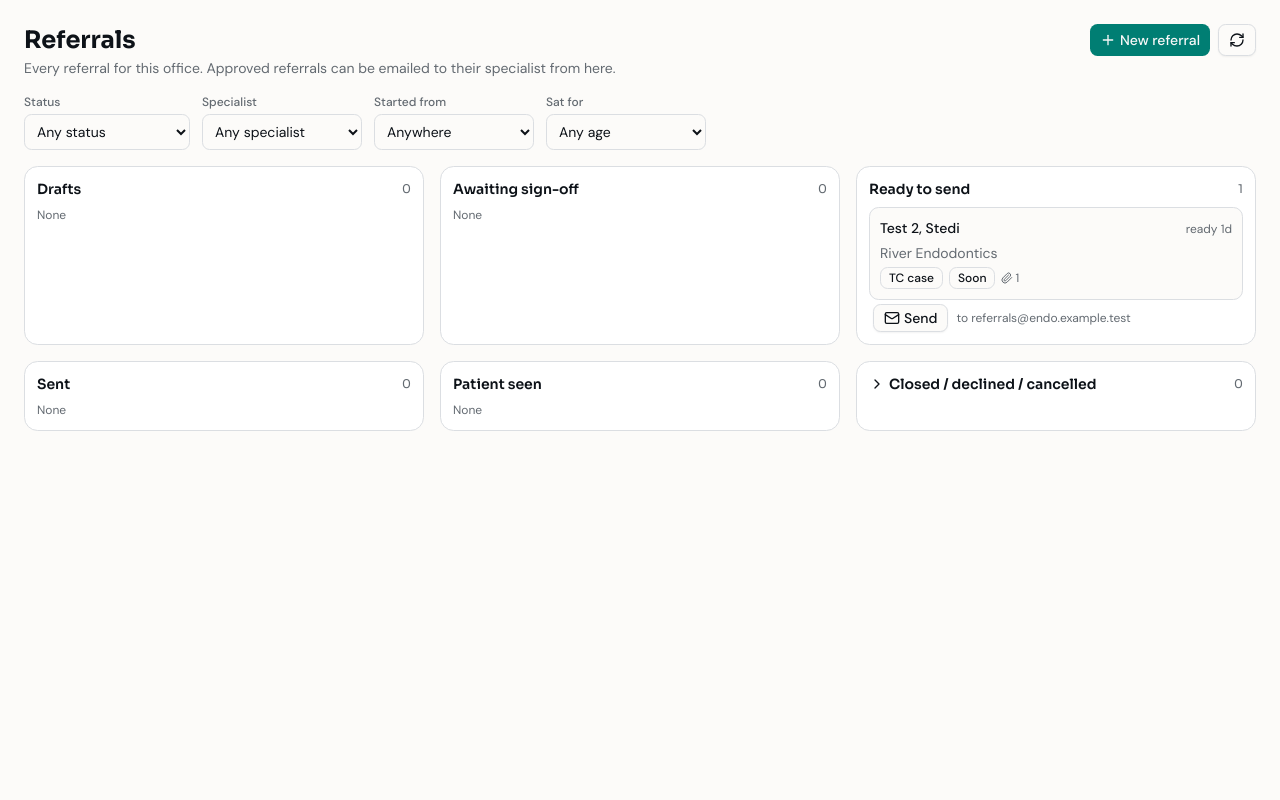
Test: the detail panel › a refusal shows the sentence and the RE-READ referral (with its retry)
The image size is (1280, 800).
Click the button with test id "tc-hub-card": (920, 228) [869,207,1243,300]
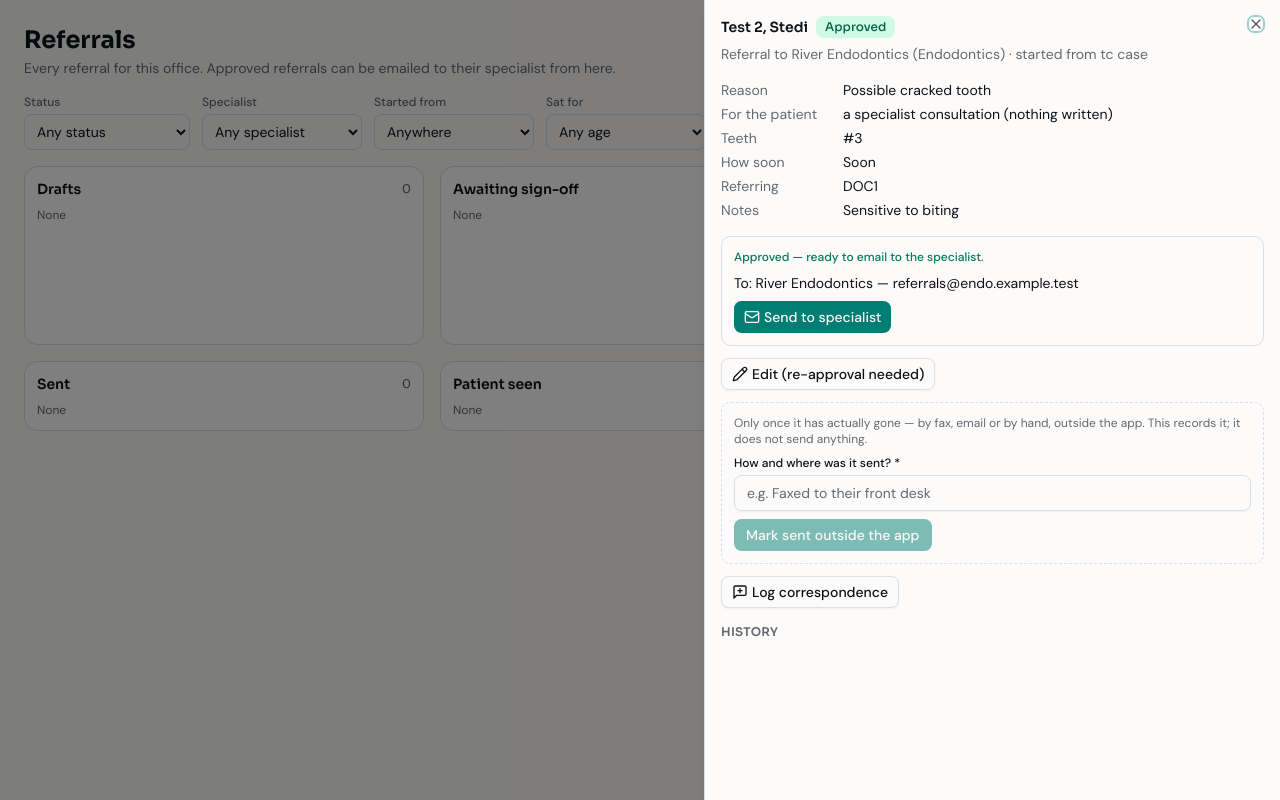
Click the button with test id "tc-hub-send-button": (813, 317) [734,301,892,333]
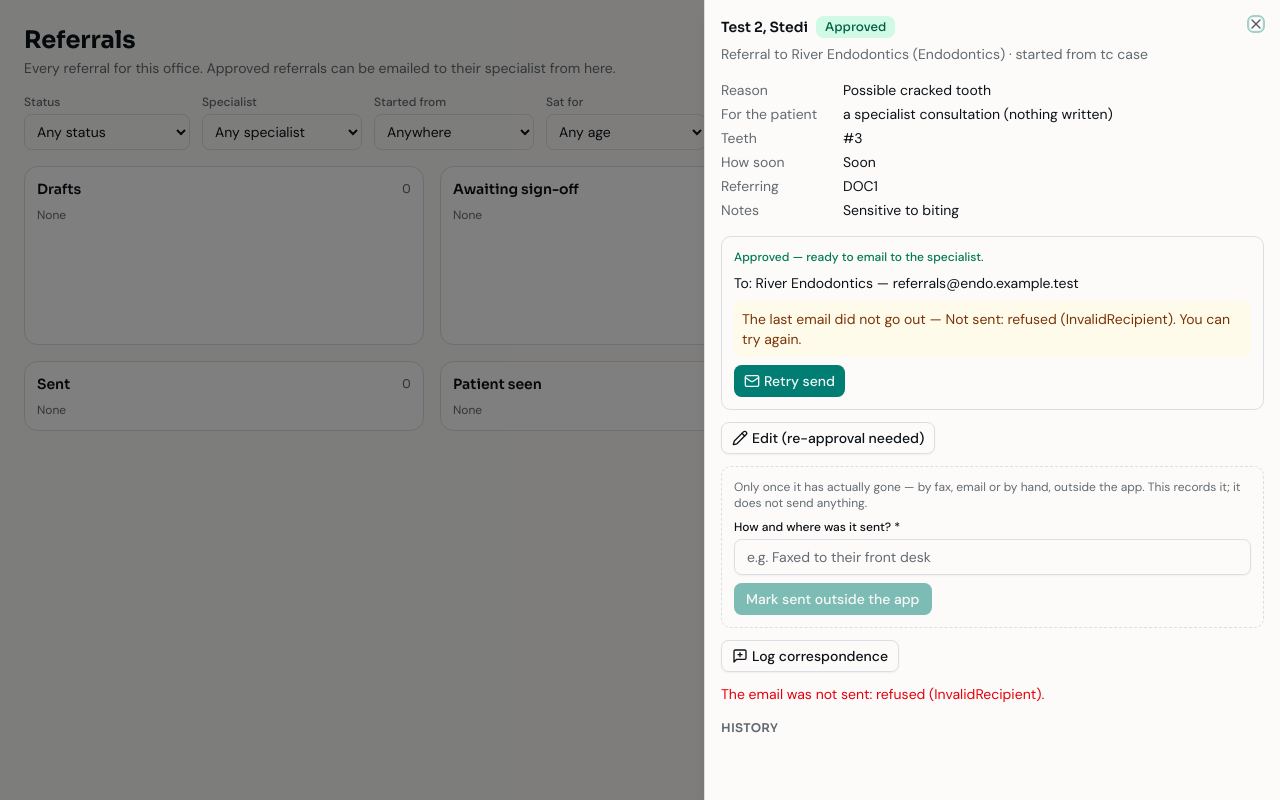
Expected: the text "The email was not sent: refused (InvalidRecipient)." is shown, [721,685,1044,703]
Expected: the text with test id "tc-hub-send-failed" shows "Not sent: refused (InvalidRecipient).", [946,310,1176,328]
Expected: the button with test id "tc-hub-send-button" reads "Retry send", [734,365,845,397]
